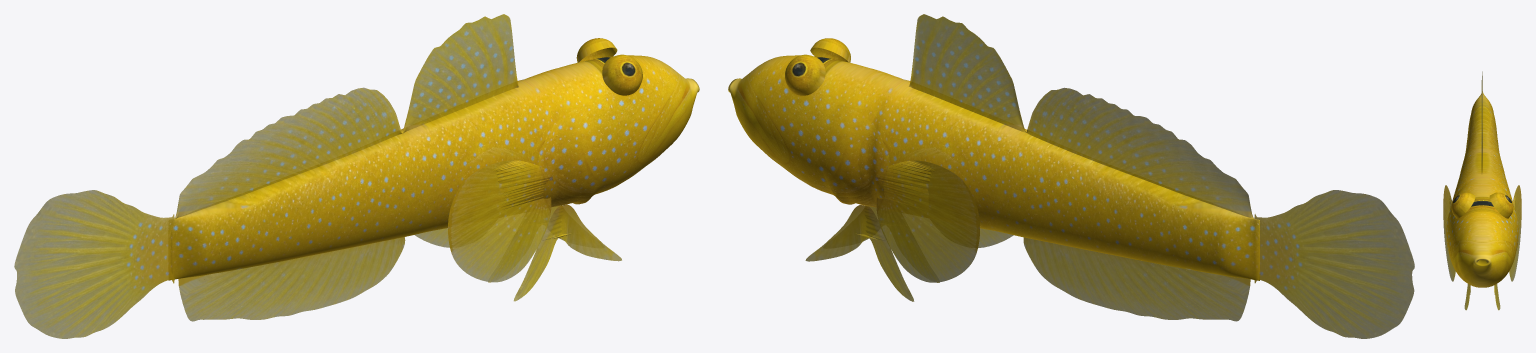
The model's file is cinctus.glb.
3 renders of one model, left to right at view 1: azimuth 30°, elevation 25°; view 2: azimuth 150°, elevation 25°; view 3: azimuth 270°, elevation 25°, orthographic. The views are drawn at different scales.
Parts seen in each view (by area): view 1: cinctus__body, cinctus__fin_1, cinctus__fin_0, cinctus__fin_2, cinctus__pectoral_1, cinctus__gill_1, cinctus__pelvic_1, cinctus__eye_1, cinctus__eye_-1; view 2: cinctus__body, cinctus__fin_1, cinctus__fin_0, cinctus__fin_2, cinctus__pectoral_-1, cinctus__gill_-1, cinctus__pelvic_-1, cinctus__eye_-1, cinctus__eye_1; view 3: cinctus__body, cinctus__pectoral_1, cinctus__pectoral_-1, cinctus__eye_1, cinctus__eye_-1, cinctus__fin_1, cinctus__pelvic_1, cinctus__pelvic_-1, cinctus__gill_1, cinctus__gill_-1.
Part boxes in pixels (x1,y1,x2,y2): cinctus__body: (168,55,699,280); cinctus__fin_1: (174,14,519,219); cinctus__fin_0: (14,190,174,338); cinctus__fin_2: (178,237,405,321); cinctus__pectoral_1: (448,160,553,282); cinctus__gill_1: (550,104,608,206); cinctus__pelvic_1: (513,204,621,301); cinctus__eye_1: (602,54,642,95); cinctus__eye_-1: (576,38,617,62); cinctus__body: (728,55,1259,280); cinctus__fin_1: (909,14,1253,218); cinctus__fin_0: (1254,190,1414,338); cinctus__fin_2: (1023,237,1250,321); cinctus__pectoral_-1: (874,160,979,282); cinctus__gill_-1: (819,104,877,206); cinctus__pelvic_-1: (805,205,914,301); cinctus__eye_-1: (785,54,825,95); cinctus__eye_1: (810,38,850,62); cinctus__body: (1447,91,1517,287); cinctus__pectoral_1: (1443,185,1455,281); cinctus__pectoral_-1: (1509,185,1521,281); cinctus__eye_1: (1451,192,1475,218); cinctus__eye_-1: (1489,192,1513,218); cinctus__fin_1: (1481,71,1482,174); cinctus__pelvic_1: (1464,284,1470,310); cinctus__pelvic_-1: (1494,284,1500,310); cinctus__gill_1: (1446,193,1458,250); cinctus__gill_-1: (1506,193,1518,250).
Bounding box in the file's own units: 1.3 × 0.5116 × 0.1869.
Materials: 5 (5 with a texture image).
